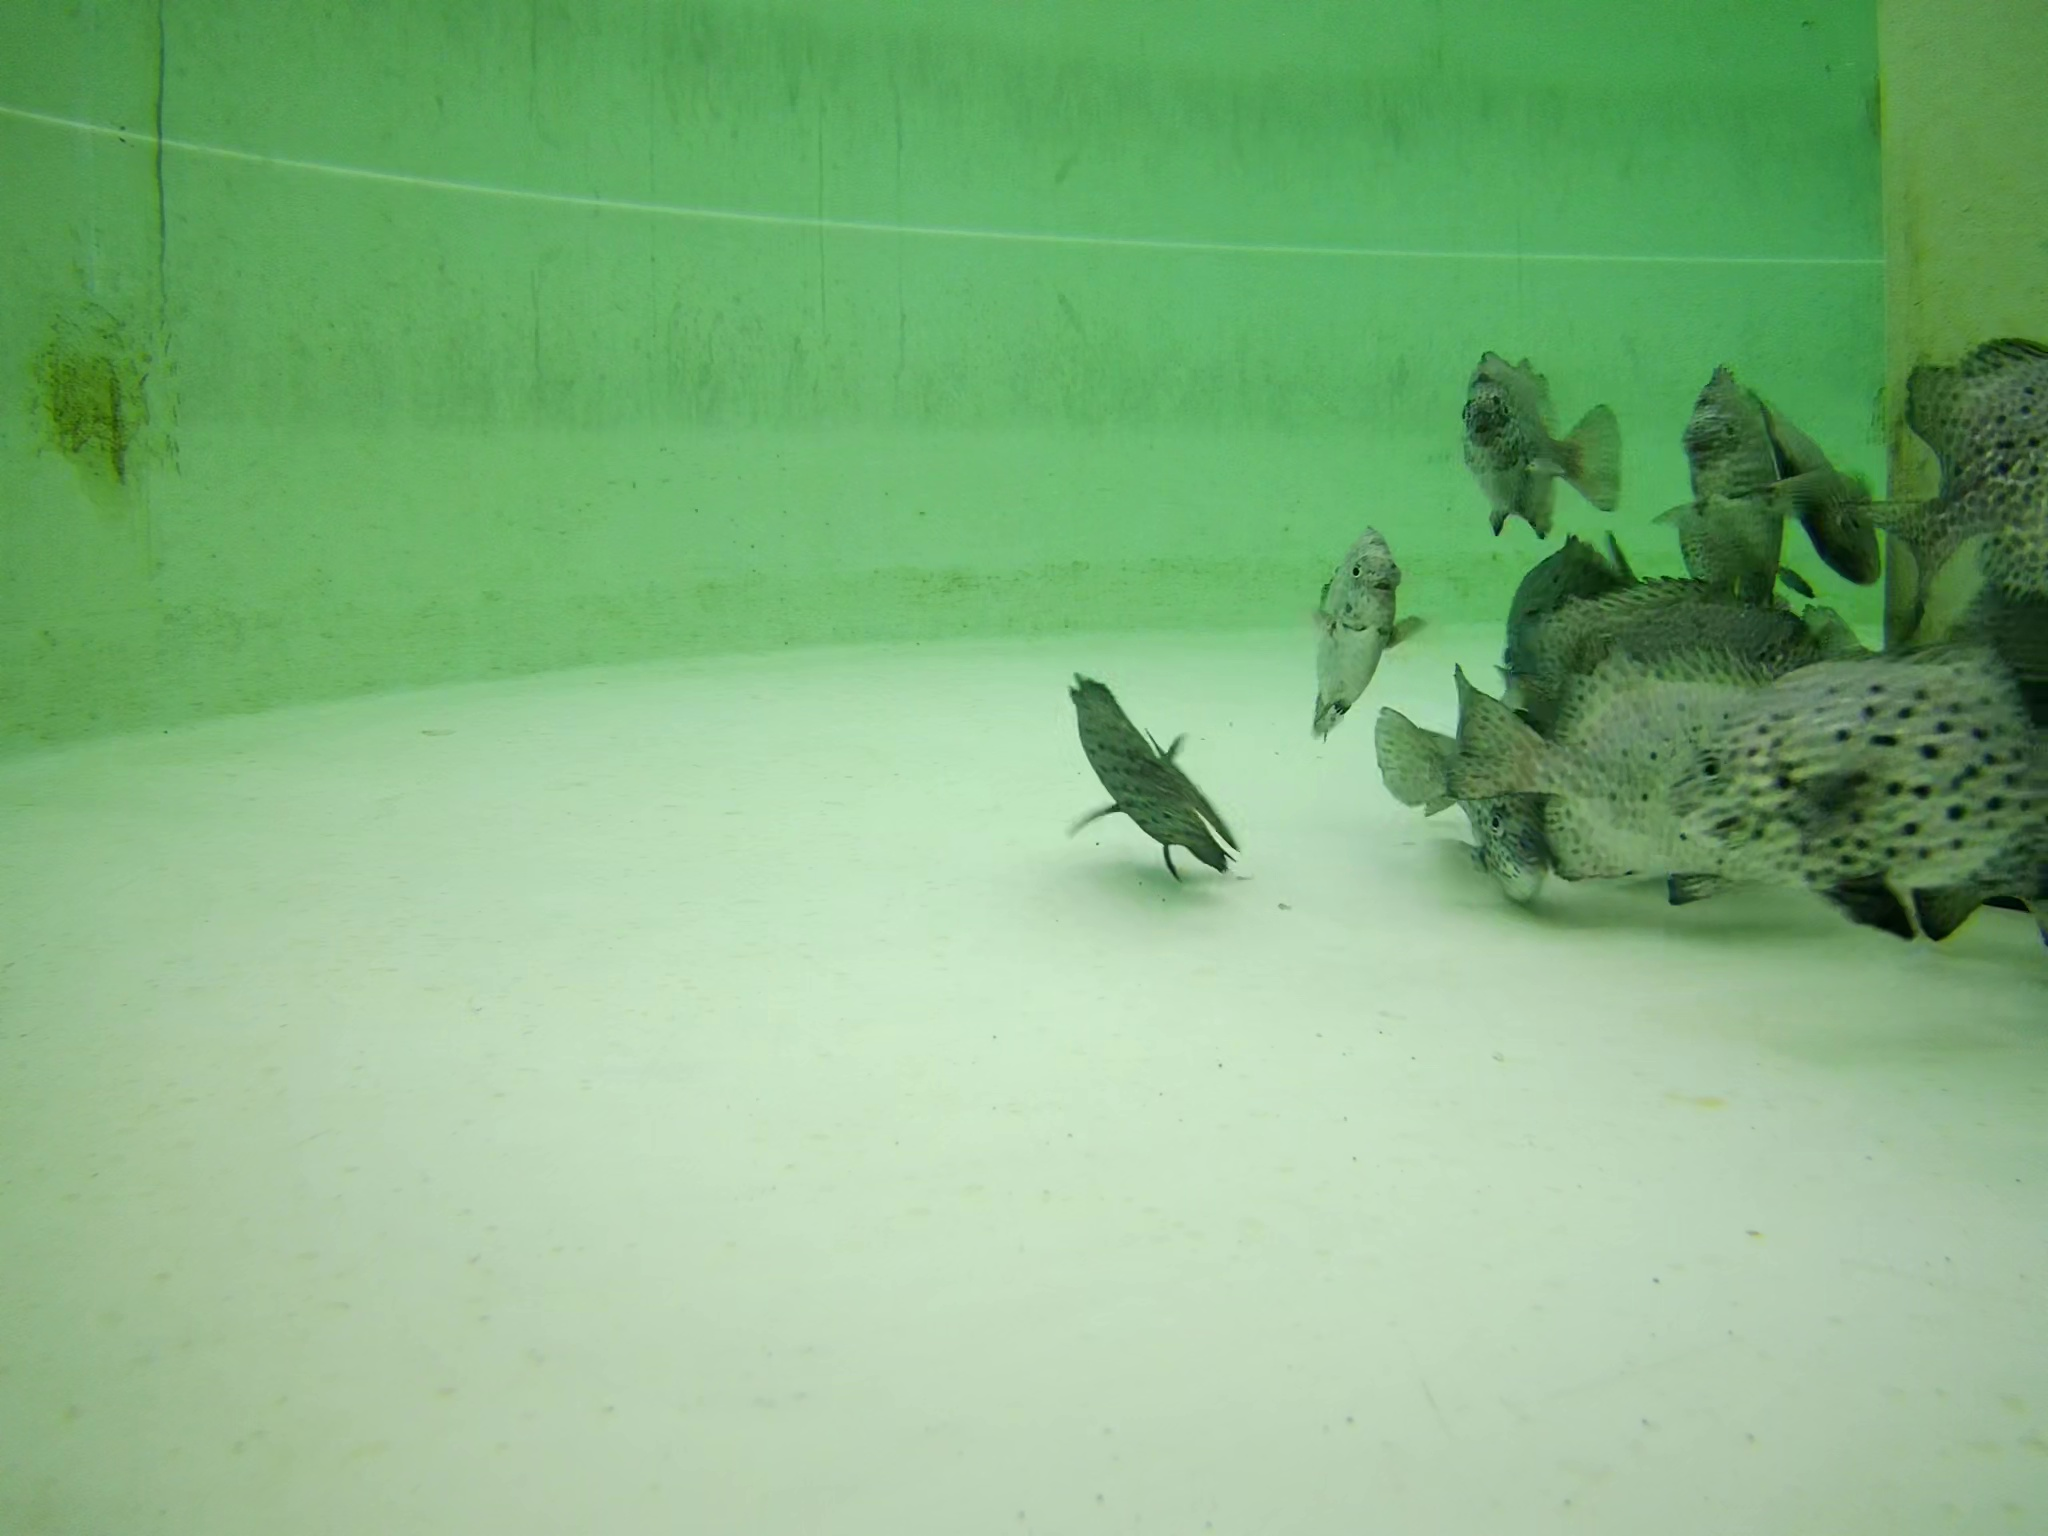fish: (1659, 645, 2046, 894), (1445, 655, 1809, 886), (1488, 591, 1859, 784), (1864, 329, 2048, 610), (1655, 365, 1858, 599), (1066, 665, 1240, 886), (1372, 679, 1543, 899), (1458, 344, 1622, 529), (1500, 536, 1700, 686), (1305, 518, 1424, 731)
